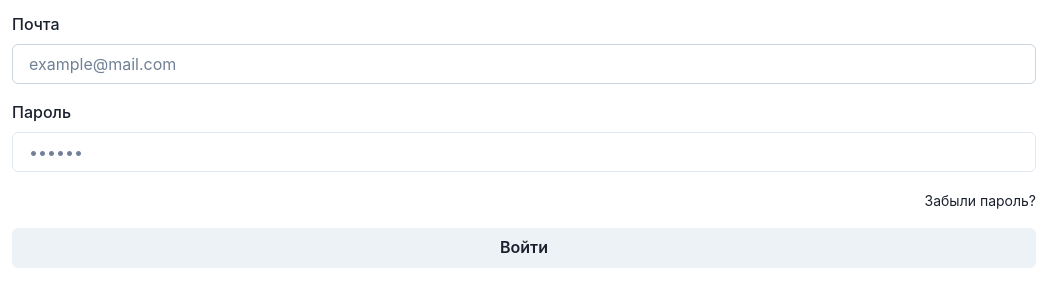
LoginForm › показывает ошибку при коротком пароле
Type "test@example.com" into the field with placeholder "example@mail.com".
click(524, 64); type("test@example.com")  # box [12,44,1036,84]
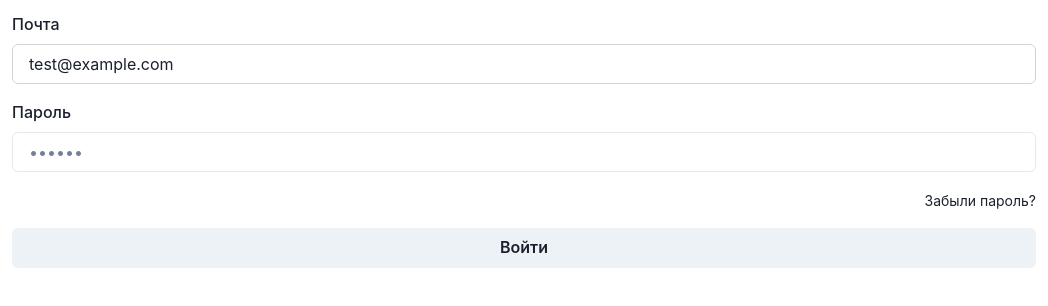
Type "123" into the password field with placeholder "••••••".
click(524, 152); type("123")  # box [12,132,1036,172]
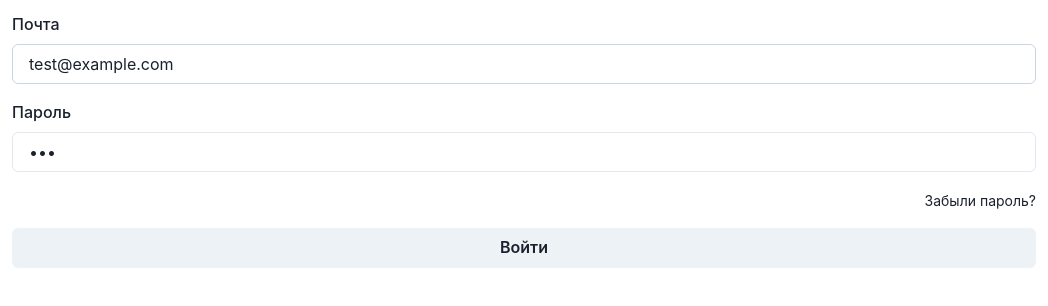
Click the button "Войти".
click(524, 248)  # box [12,228,1036,268]
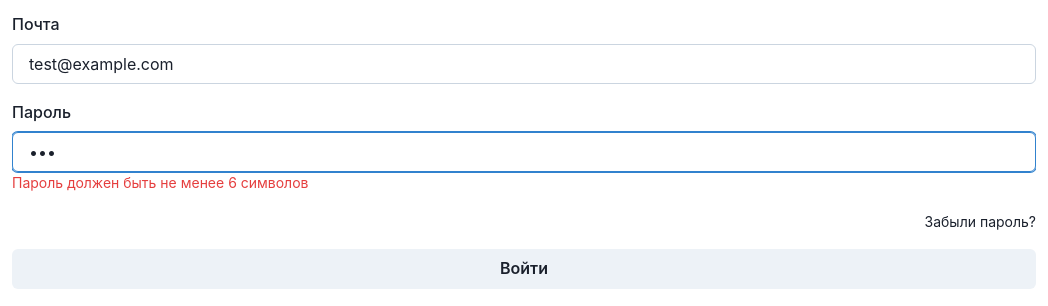
Expected: the text "Пароль должен быть не менее 6 символов" is shown, [12,174,308,191]
